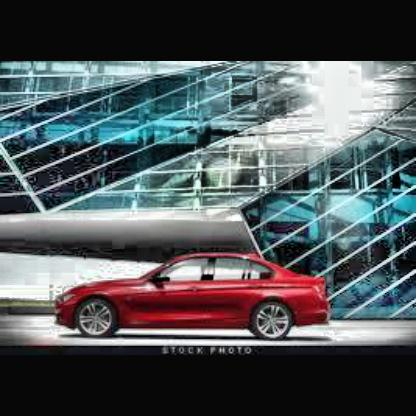BMW 3 Series Sedan 2012: (55, 255, 329, 340)
